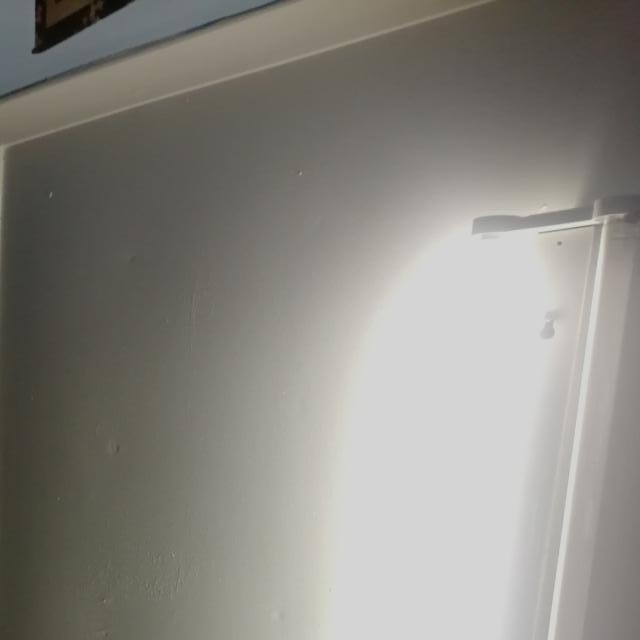fluorescent tube: (217, 188, 569, 640)
